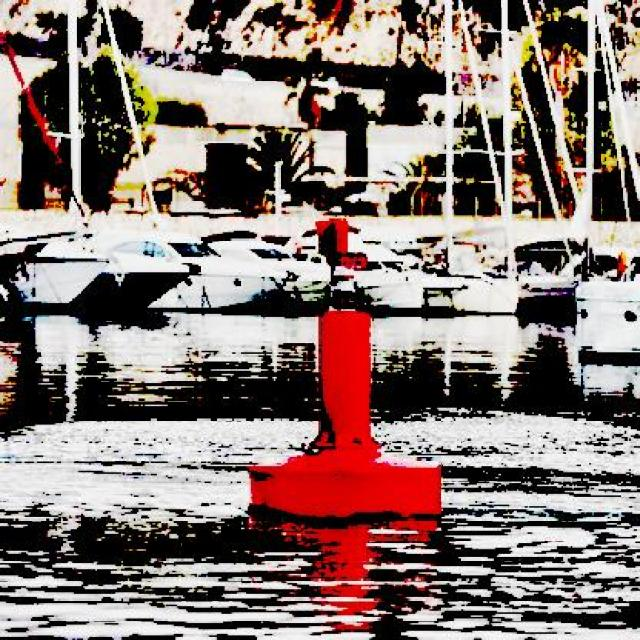Red Buoy: (245, 315, 441, 522)
